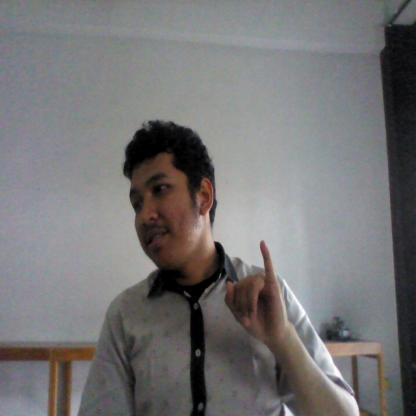I: (224, 233, 286, 351)
